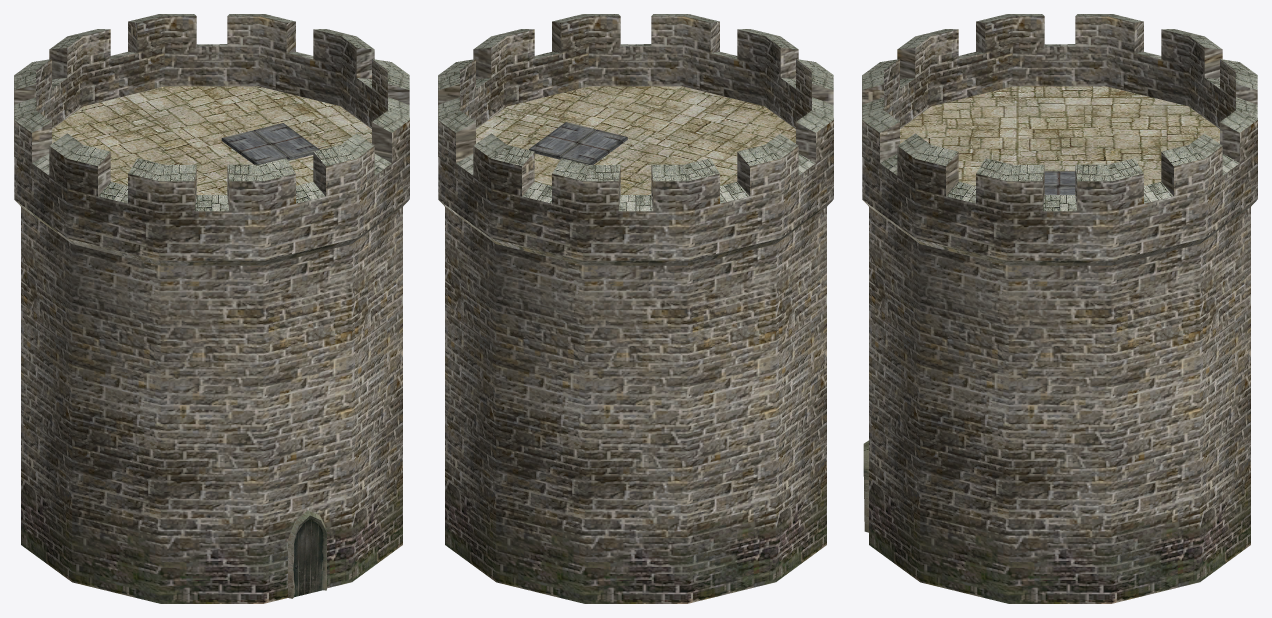
Rendered from building_tower_round_short.glb.
3 views of the same model, side by side, from view 1: azimuth 30°, elevation 25°; view 2: azimuth 150°, elevation 25°; view 3: azimuth 270°, elevation 25° (orthographic).
Parts seen in each view (by area): view 1: building_tower_round_short; view 2: building_tower_round_short; view 3: building_tower_round_short.
Boxes of the visible parts, x1,y1,x2,y2 form: building_tower_round_short: [14, 14, 409, 603]; building_tower_round_short: [438, 14, 833, 603]; building_tower_round_short: [862, 14, 1257, 603].
Size of the model in its own units: 10.61 by 12.8 by 10.61.
Materials: 4 (4 with a texture image).
